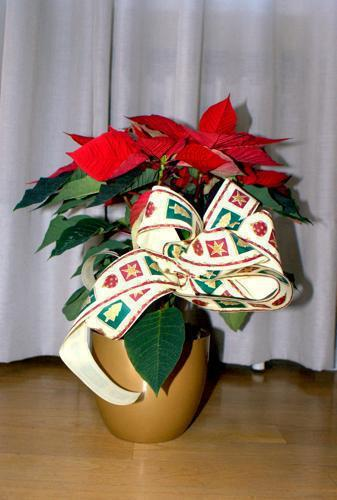Matera: (16, 96, 310, 449)
